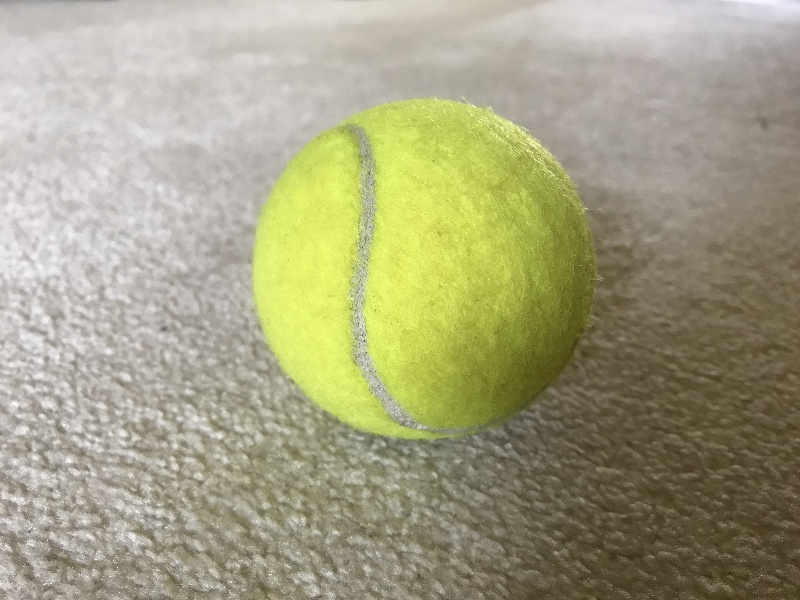Tennisball: (225, 81, 616, 466)
